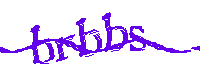b: (102, 12, 129, 55), (30, 22, 54, 69), (77, 17, 102, 58)
r: (55, 34, 75, 62)
s: (130, 23, 147, 54)
